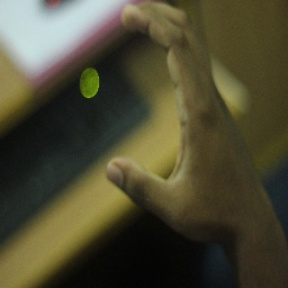C: (102, 1, 235, 220)
